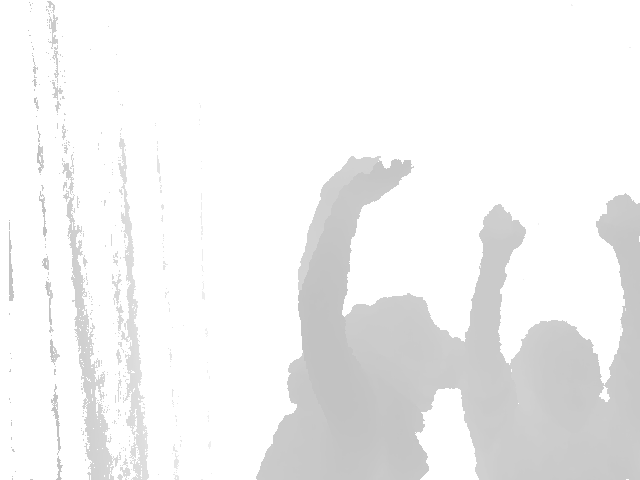hand: (340, 158, 416, 211), (314, 152, 383, 202), (474, 203, 530, 263), (593, 194, 640, 252)
head: (344, 290, 464, 401), (504, 315, 606, 422)
person: (256, 151, 471, 480), (455, 196, 640, 480)
